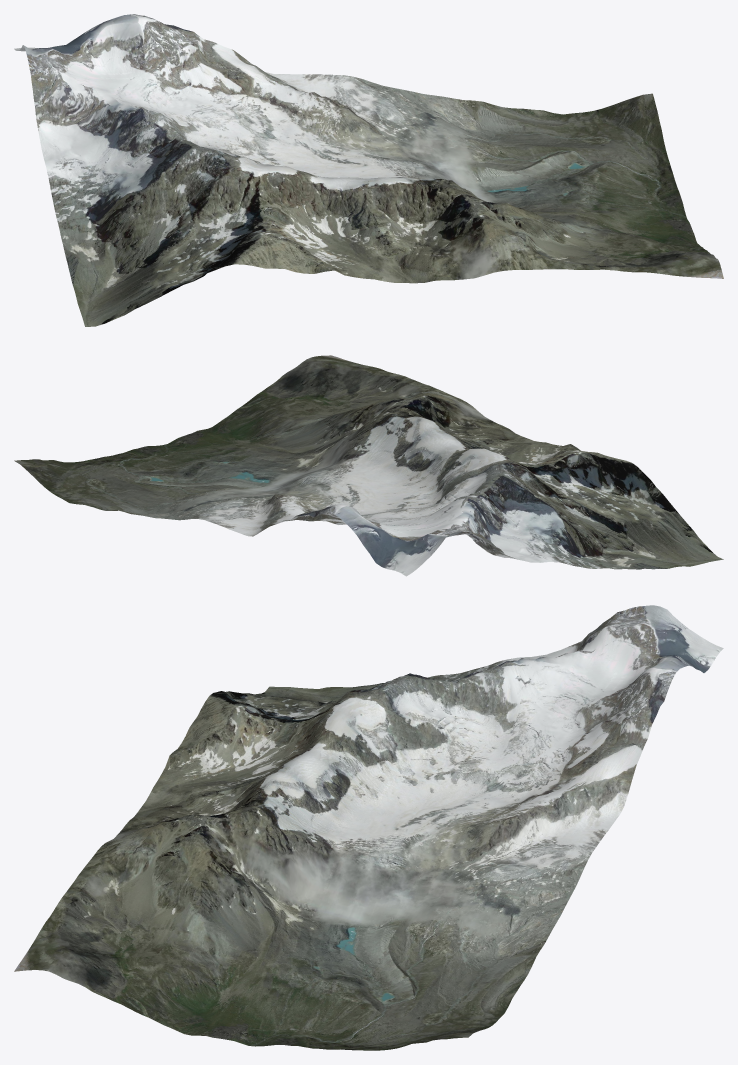
The model's file is SM_GMap_Medium_00.fbx.
3 views of the same model, one above another, from view 1: azimuth 30°, elevation 25°; view 2: azimuth 150°, elevation 25°; view 3: azimuth 270°, elevation 25° (orthographic). The views are drawn at different scales.
Visible parts, largest first — view 1: SM_GMap_Medium_00; view 2: SM_GMap_Medium_00; view 3: SM_GMap_Medium_00.
Boxes of the visible parts, <box> form: SM_GMap_Medium_00: <box>14,14,723,326</box>; SM_GMap_Medium_00: <box>14,355,723,576</box>; SM_GMap_Medium_00: <box>14,605,723,1050</box>.
Bounding box in the file's own units: 1890924 × 431571 × 1575253.
